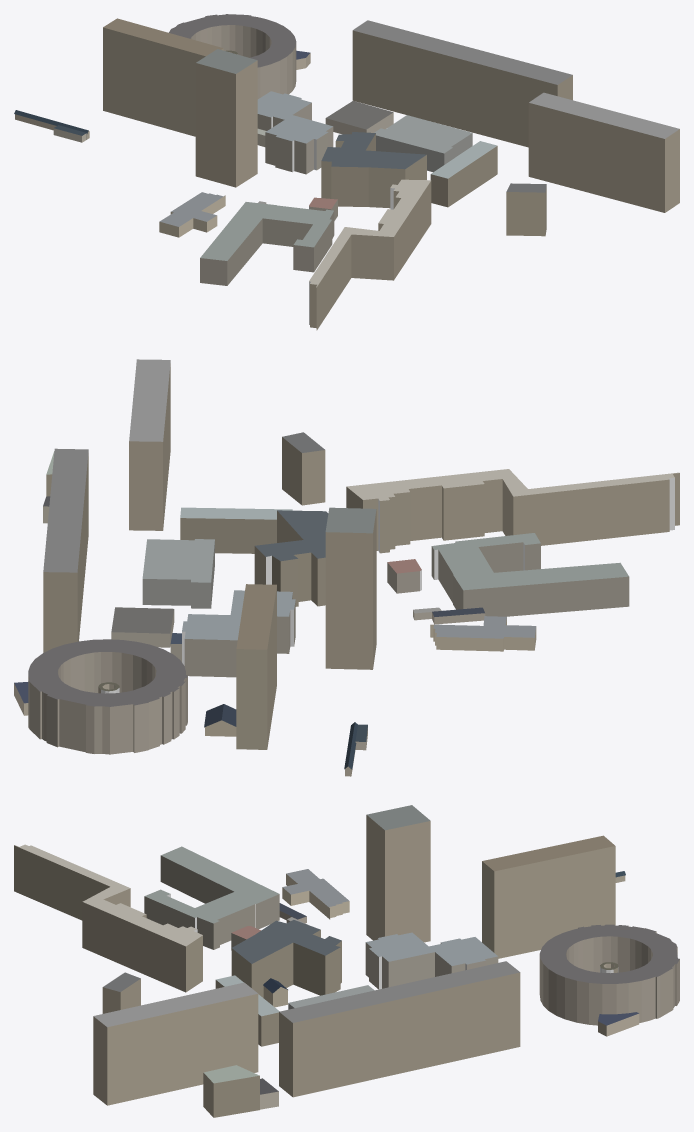
The picture shows the model from 3 angles, top to bottom: view 1: azimuth 30°, elevation 25°; view 2: azimuth 150°, elevation 25°; view 3: azimuth 270°, elevation 25°; orthographic projection. The views are drawn at different scales.
Parts seen in each view (by area): view 1: tuile; view 2: tuile; view 3: tuile.
Part boxes in pixels (<box>): tuile: <box>14,14,679,330</box>; tuile: <box>14,359,679,776</box>; tuile: <box>14,805,679,1117</box>.
Size of the model in its own units: 278 by 69.04 by 327.
